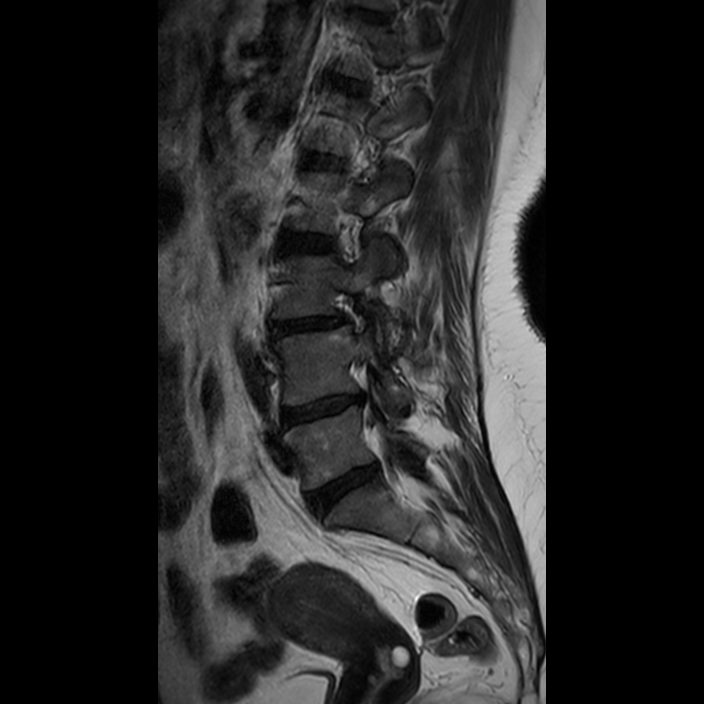LFS1: (324, 277, 373, 343)
